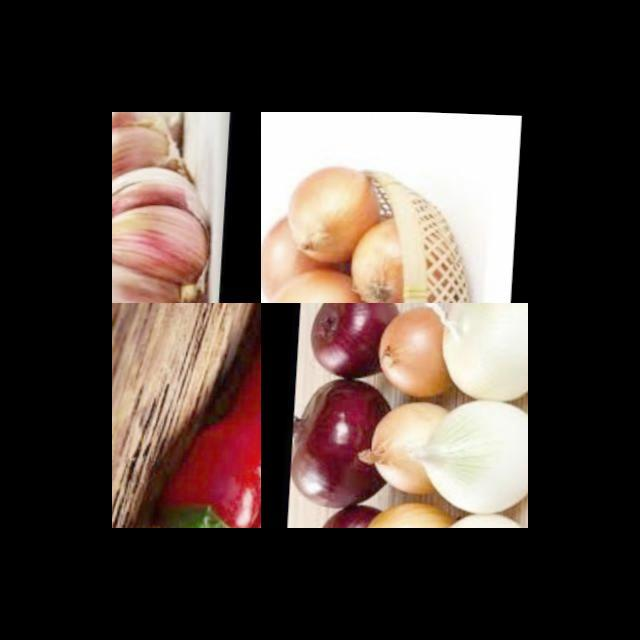garlic: (112, 164, 222, 303), (112, 112, 192, 269), (112, 112, 184, 182)
onion: (411, 393, 528, 513), (290, 378, 398, 506), (272, 164, 377, 270), (359, 398, 457, 498), (434, 303, 528, 400), (304, 303, 398, 385), (373, 303, 454, 398), (345, 211, 415, 303), (261, 214, 325, 303), (261, 262, 358, 303), (349, 499, 455, 528), (313, 503, 396, 528)
